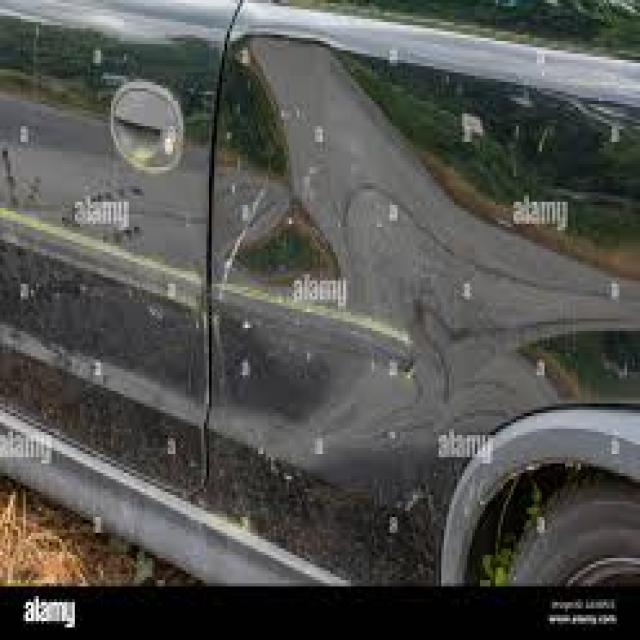Dent: (205, 17, 600, 490)
